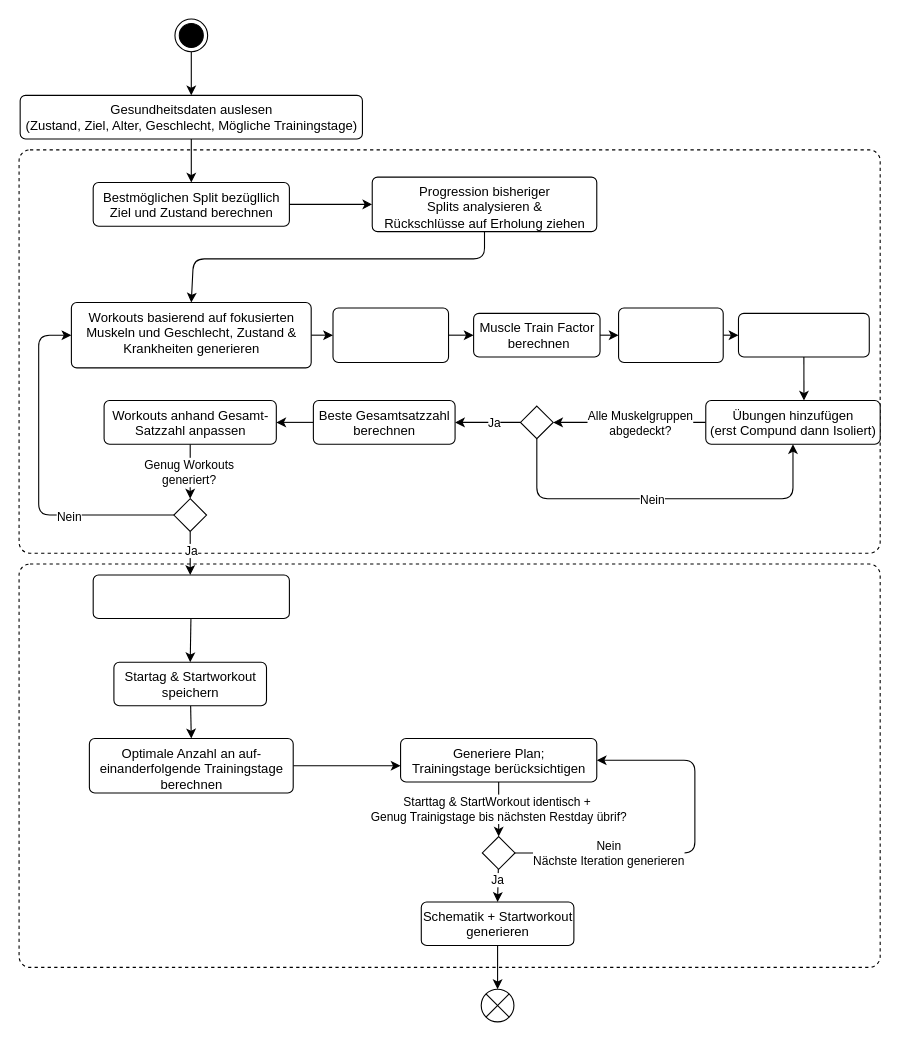
Some shapes in this 899 by 1041 pixel diagram are drawn without their labels. The box of each missing label's shape, as (x1, y1, x2, y2) in pixels:
Anzahl an Compund Übungen berechnen: (737, 312, 869, 357)
Intervall an Trainings- und Pausetagen bestimmen: (92, 574, 289, 619)
Muskelgruppen für Split berechnen: (332, 307, 449, 362)
PlanManager: (18, 563, 880, 967)
WorkoutManager: (18, 149, 880, 553)
Übungen filtern (gesundheitsbed. und Splitbedingt): (617, 307, 723, 362)
